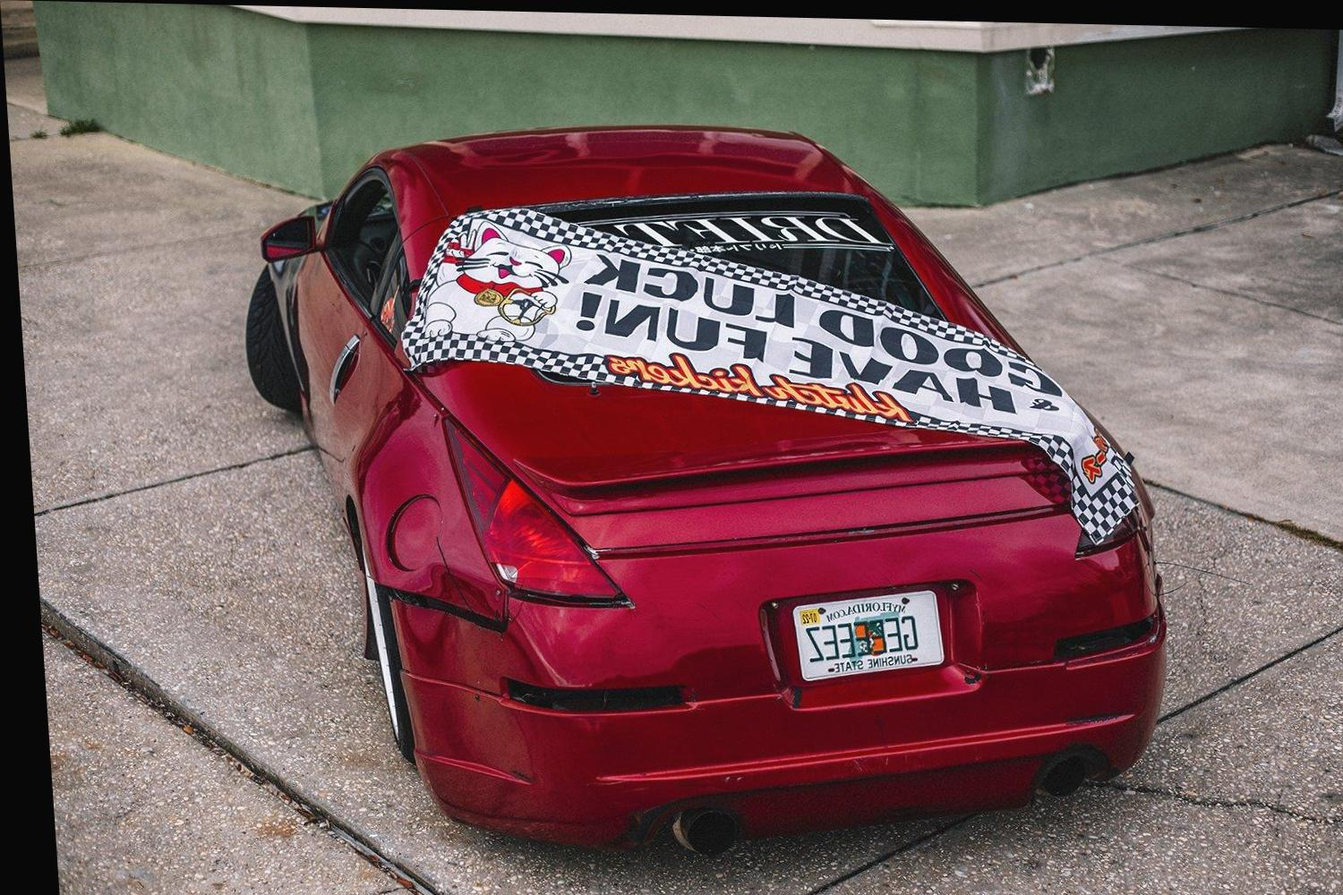License_Plate: (783, 584, 951, 690)
